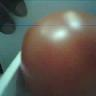tomato: (23, 16, 96, 96)
